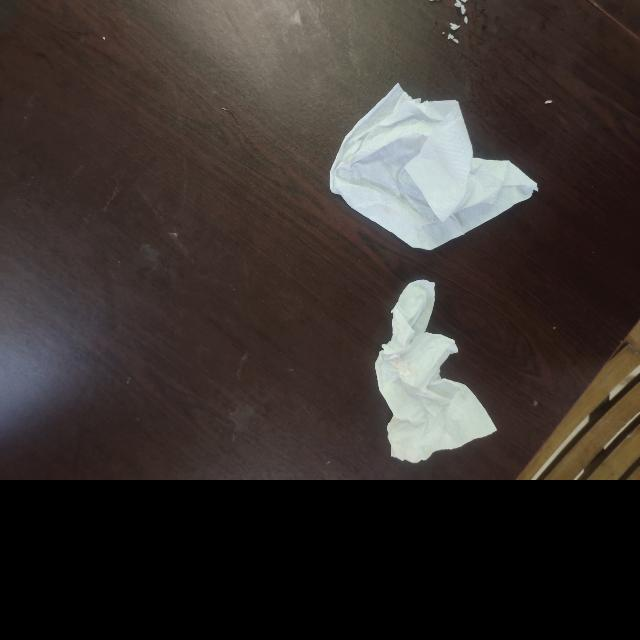kitchen paper: (330, 82, 541, 254), (374, 280, 496, 465)
